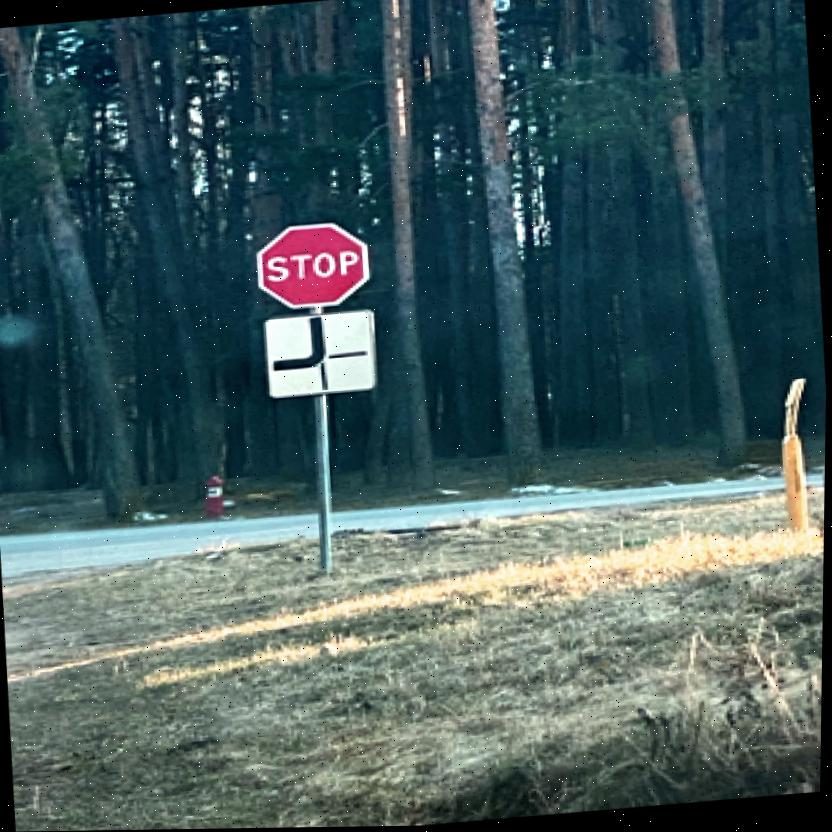Pole: (307, 395, 340, 569)
Sign: (255, 223, 370, 313)
